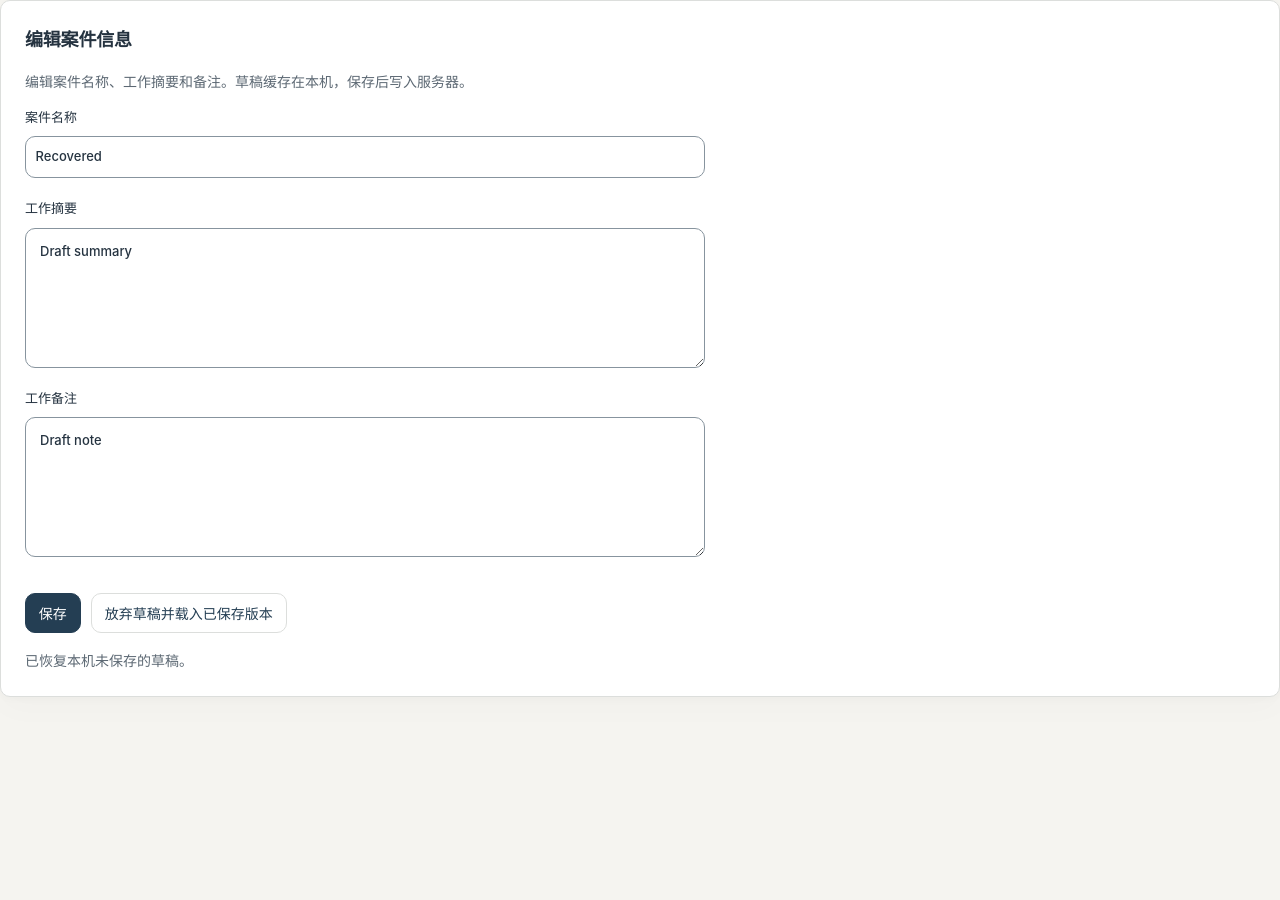
Test: restores account-scoped drafts and clears them only after a successful save
Check: the field labelled "案件名称" holds "Recovered", box [25, 136, 705, 178]
Check: the text "已恢复本机未保存的草稿。" is shown, box [25, 652, 193, 669]
Replace the text in the text box labelled "工作备注" with "New note" at (365, 487), box [25, 417, 705, 557]
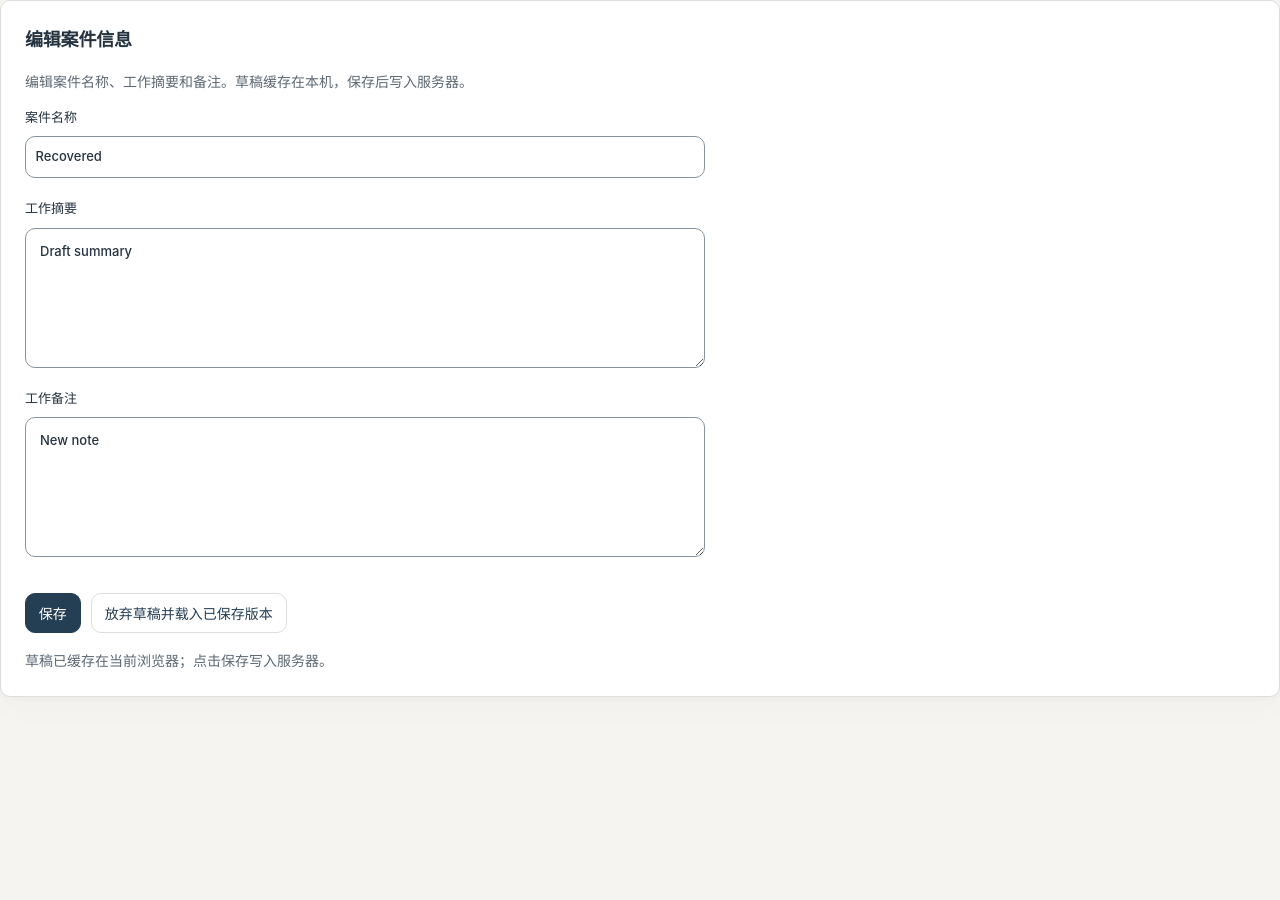
Click the button "保存".
click(53, 613)  # box [25, 593, 81, 633]
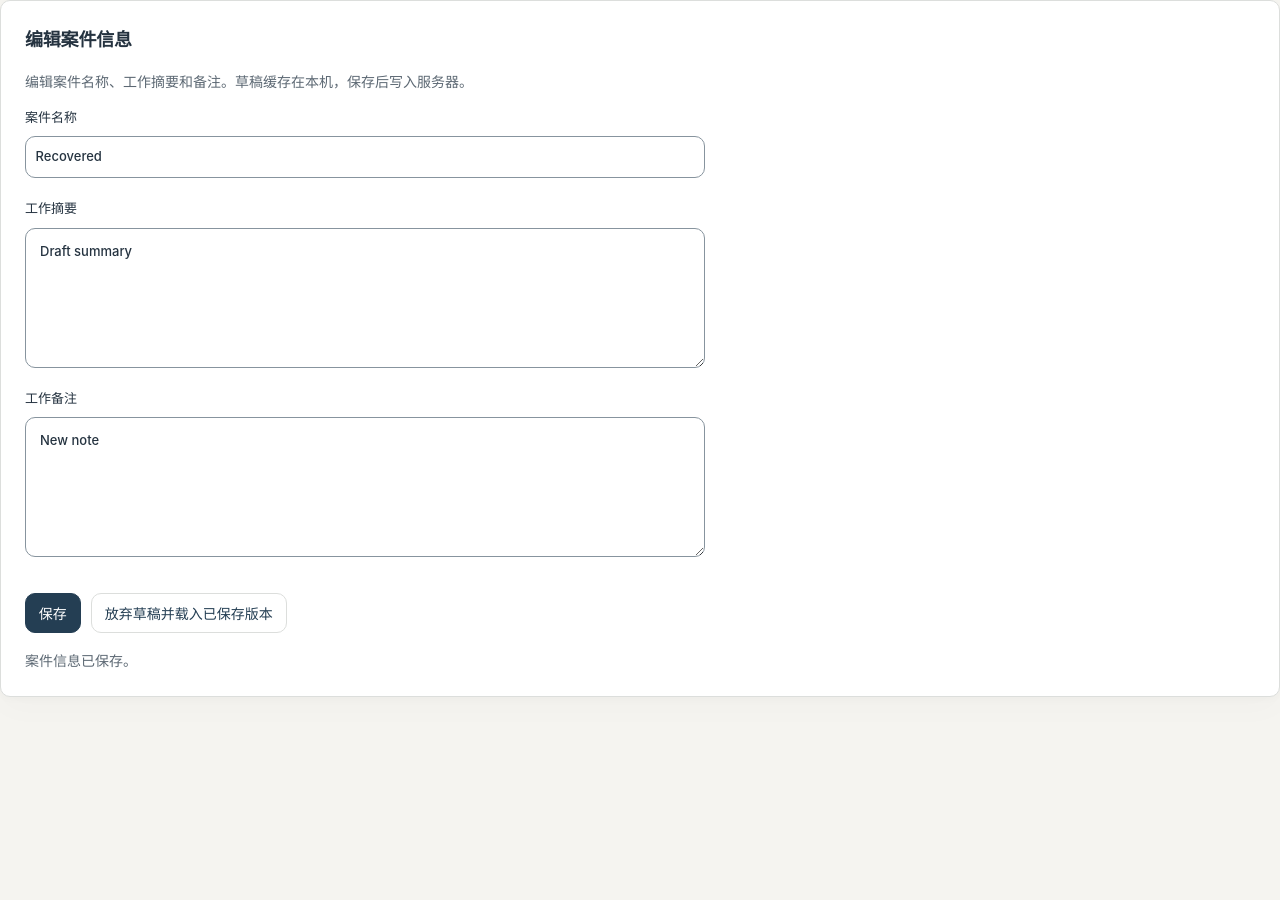
Check: the text "案件信息已保存。" is shown, box [25, 652, 137, 669]
